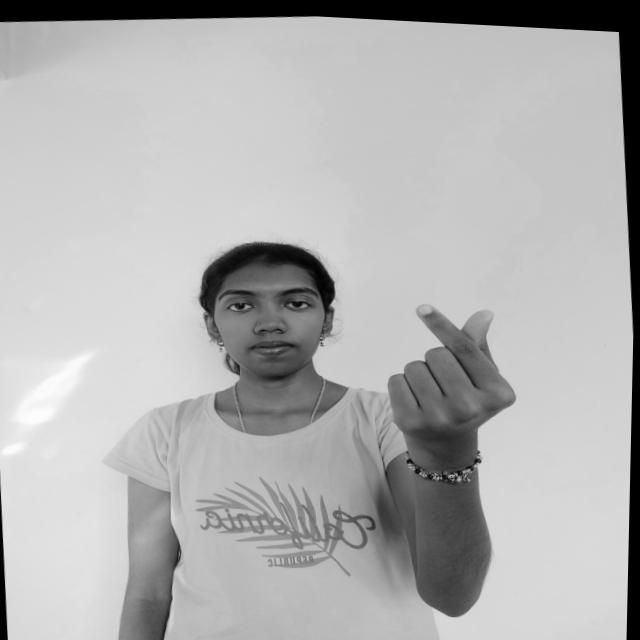Grattitude: (370, 279, 536, 459)
